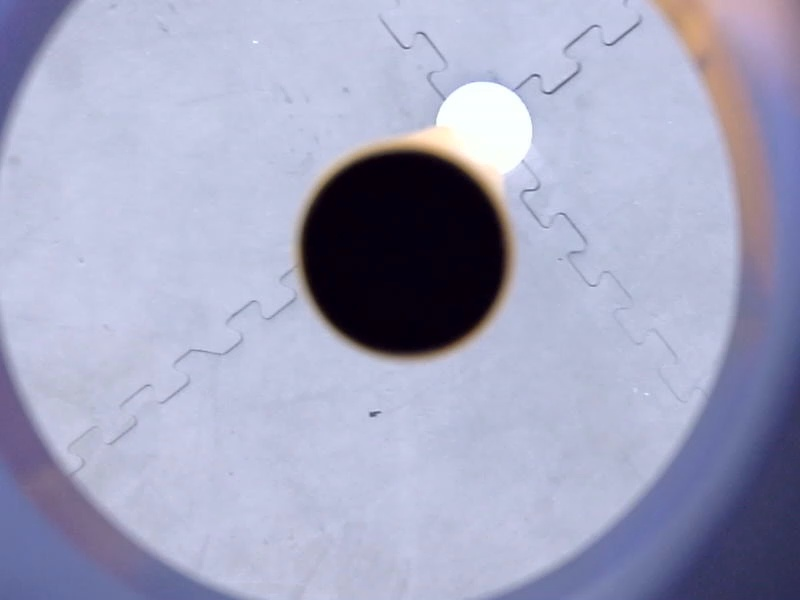tip: (284, 132, 524, 378)
